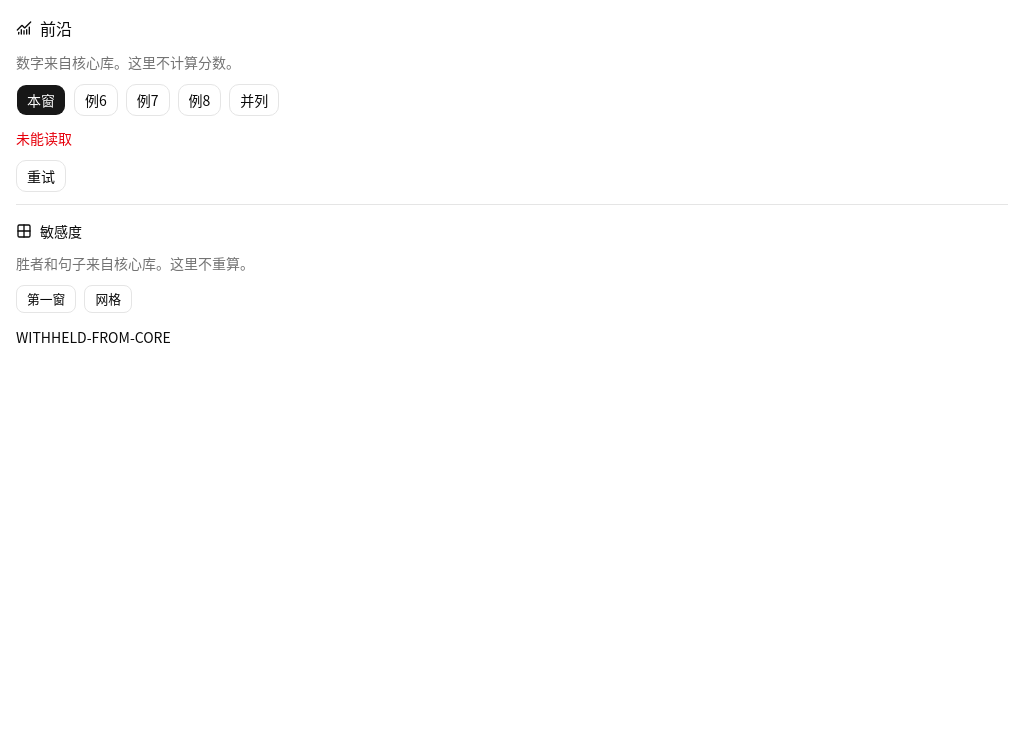
Test: retries a failed read
Step 1. Click the button "重试" → click(41, 176), box [16,160,66,192]
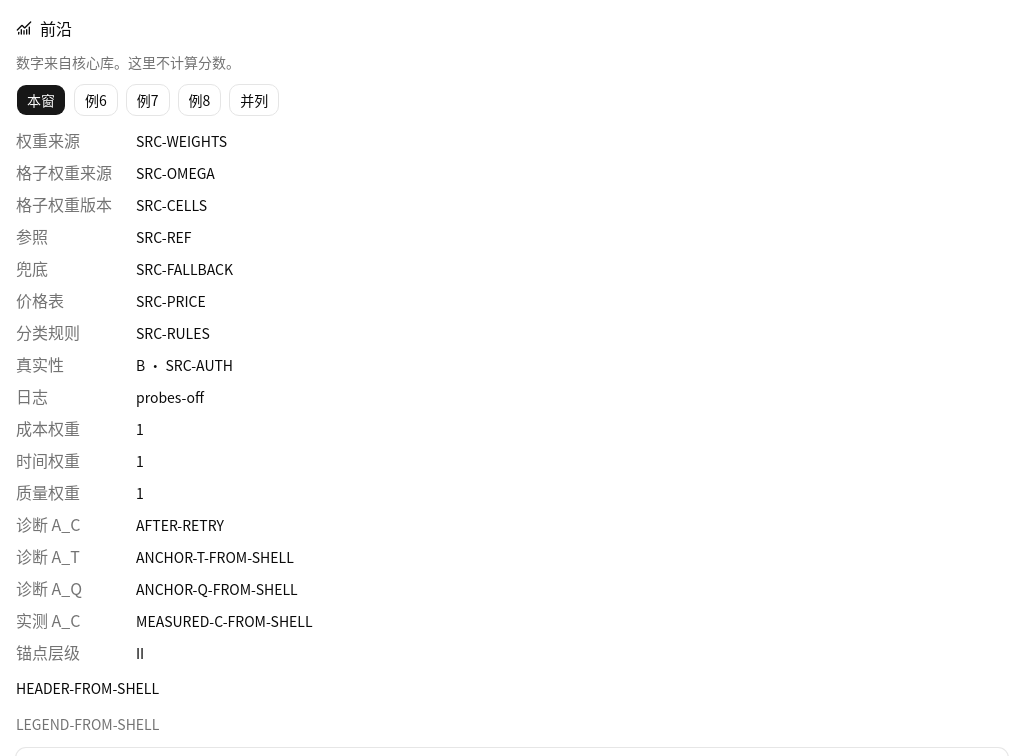
Expected: the text "AFTER-RETRY" is shown, [136,515,224,535]
